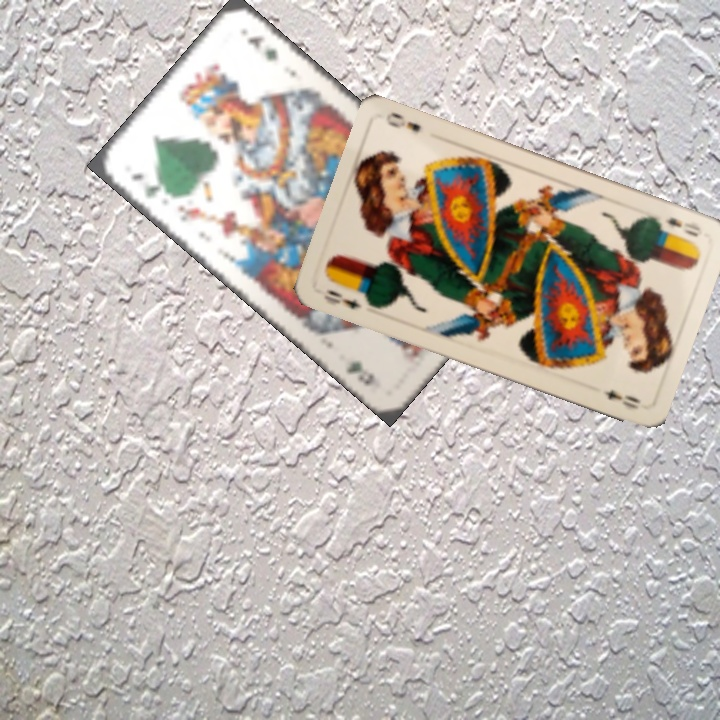EO: (320, 285, 365, 312), (661, 213, 705, 240)
GK: (127, 168, 164, 201)
